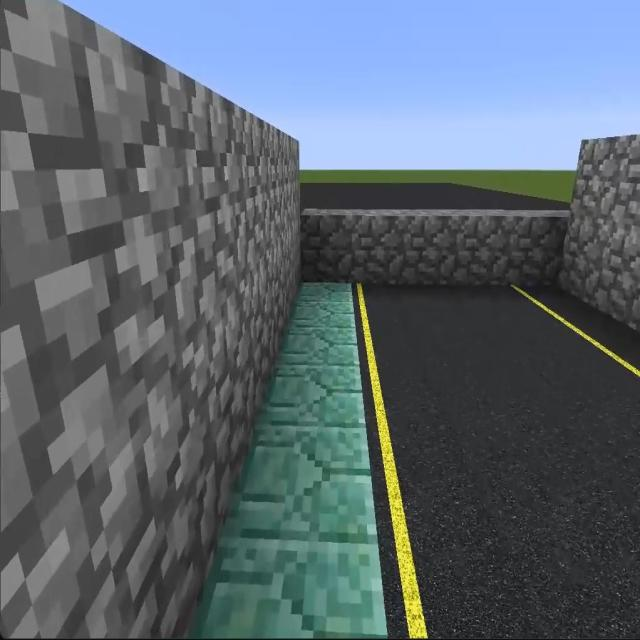road: (356, 287, 637, 636)
sidewalk: (192, 283, 386, 639)
